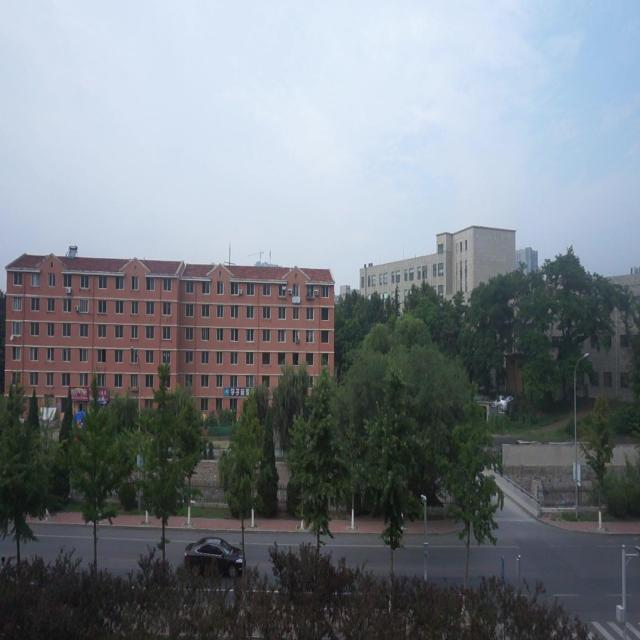drone: (492, 393, 515, 415)
